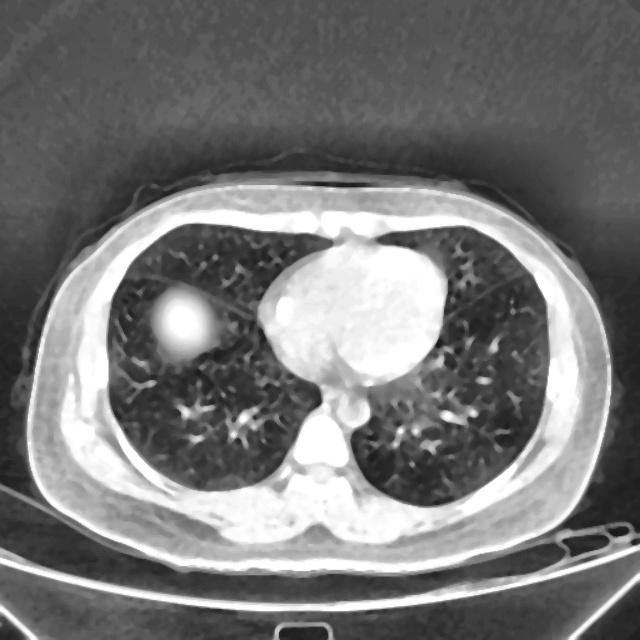covid: (23, 167, 614, 576)
